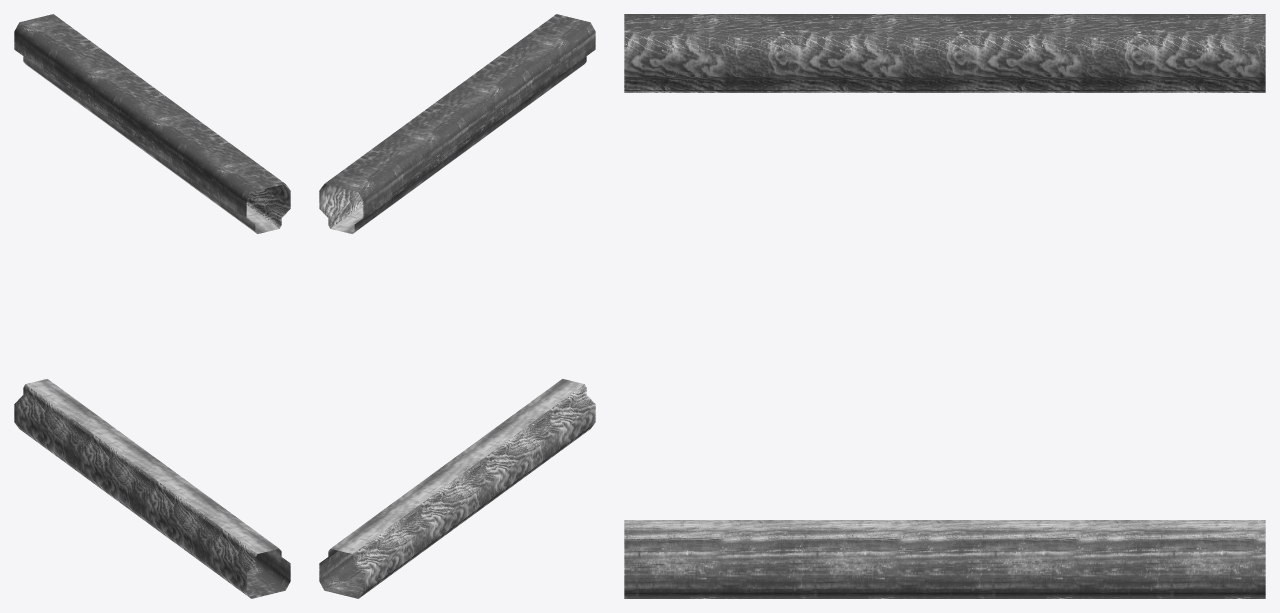
Rendered from SM_Fence_A3_Splines_52.fbx.
3 renders of one model, left to right at view 1: azimuth 30°, elevation 25°; view 2: azimuth 150°, elevation 25°; view 3: azimuth 270°, elevation 25°, orthographic. The views are drawn at different scales.
Parts seen in each view (by area): view 1: SM_Fence_A3_Splines_52; view 2: SM_Fence_A3_Splines_52; view 3: SM_Fence_A3_Splines_52.
Boxes of the visible parts, x1=… form: SM_Fence_A3_Splines_52: x1=14, y1=14, x2=290, y2=598; SM_Fence_A3_Splines_52: x1=319, y1=14, x2=595, y2=598; SM_Fence_A3_Splines_52: x1=624, y1=14, x2=1265, y2=598.
Bounding box in the file's own units: 6.56 × 60.11 × 58.09.
Materials: 1 (1 with a texture image).
